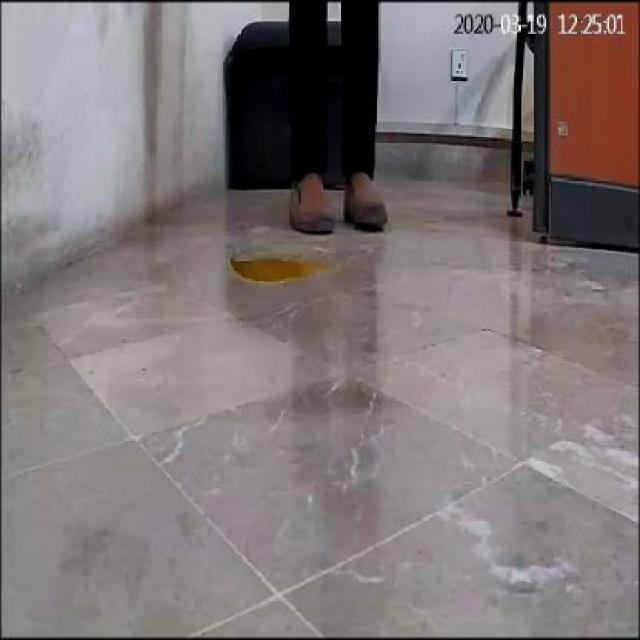spill: (226, 252, 332, 290)
